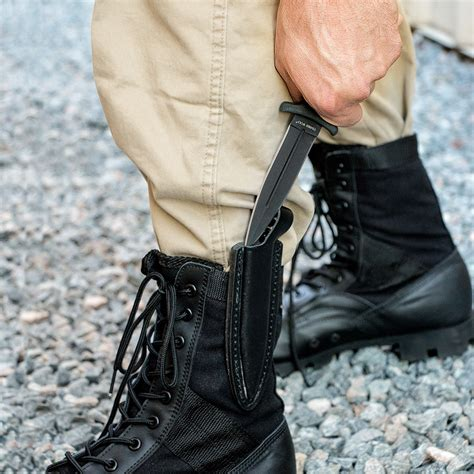knife: (242, 110, 326, 249)
